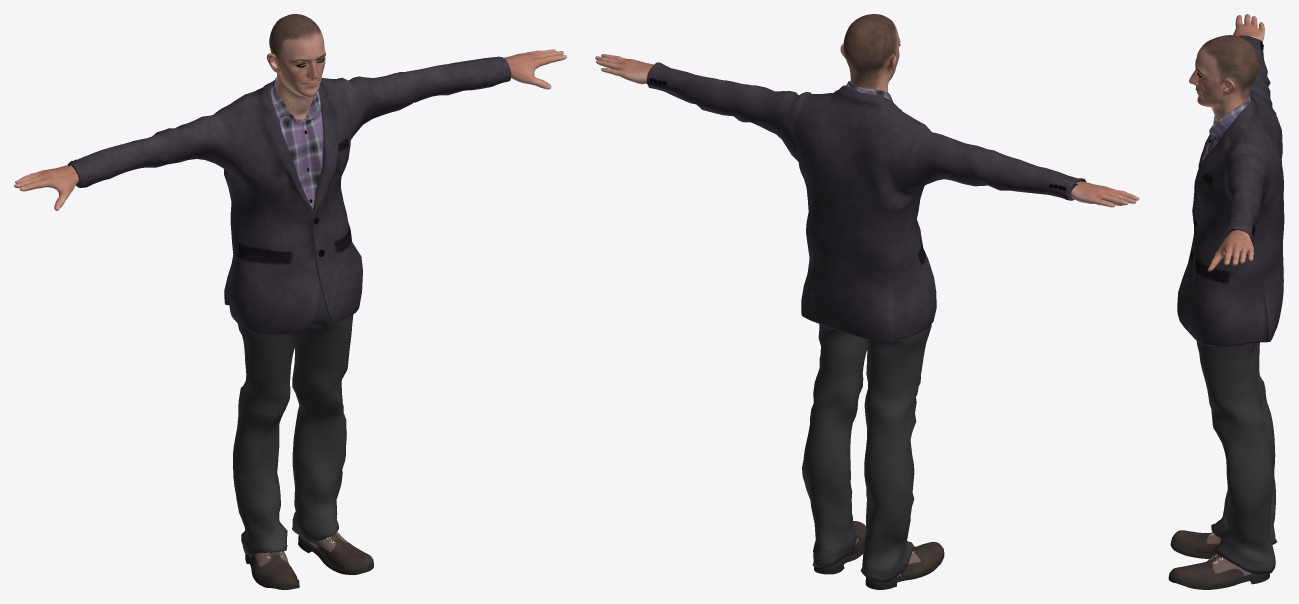
File: Male_1.obj
The picture shows the model from 3 angles, left to right: view 1: azimuth 30°, elevation 25°; view 2: azimuth 150°, elevation 25°; view 3: azimuth 270°, elevation 25°; orthographic projection. The views are drawn at different scales.
Parts seen in each view (by area): view 1: Tops, Bottoms, Body, Shoes; view 2: Tops, Bottoms, Body, Shoes; view 3: Tops, Bottoms, Body, Shoes.
Part boxes in pixels (x1,y1,x2,y2): Tops: [67, 56, 511, 334]; Bottoms: [232, 282, 353, 555]; Body: [14, 14, 566, 210]; Shoes: [245, 532, 373, 589]; Tops: [646, 62, 1086, 342]; Bottoms: [802, 324, 931, 582]; Body: [595, 14, 1139, 207]; Shoes: [814, 521, 944, 589]; Tops: [1177, 35, 1284, 346]; Bottoms: [1196, 341, 1277, 574]; Body: [1189, 14, 1264, 271]; Shoes: [1168, 530, 1269, 589].
Bounding box in the file's own units: 193 × 187 × 37.04.
Materials: 1 (1 with a texture image).
